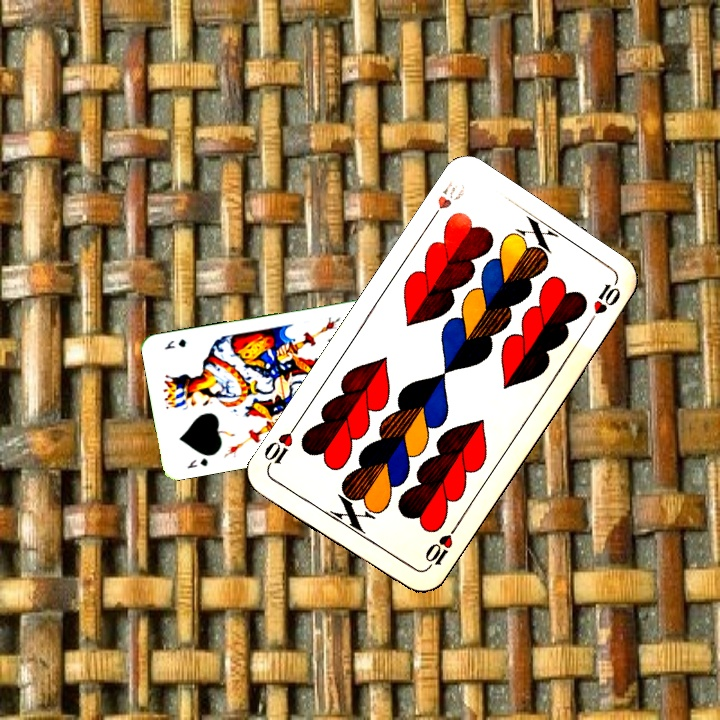GK: (183, 454, 210, 471)
H10: (424, 177, 468, 227), (421, 522, 460, 574)
